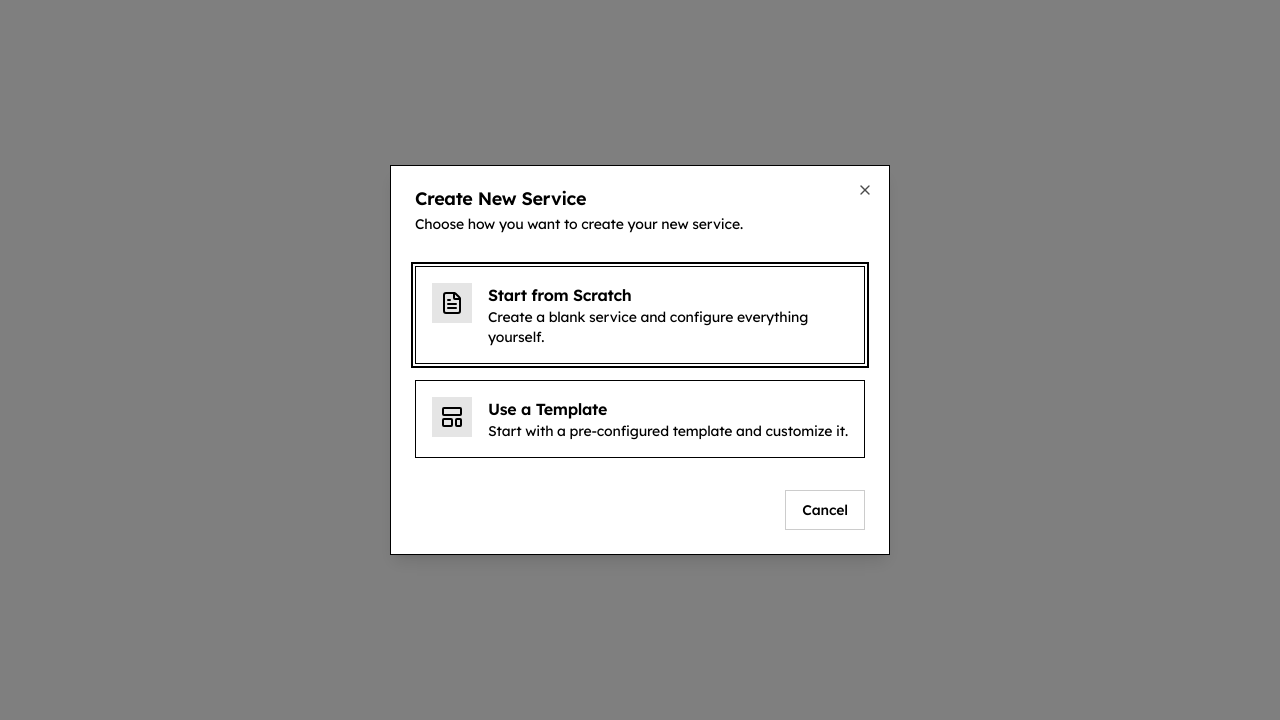
Scenario: CreateServiceDialog › Mode Selection › shows blank service form when "Start from Scratch" is clicked
Click the heading "Start from Scratch" at (560, 295), box [488,285,631,305]
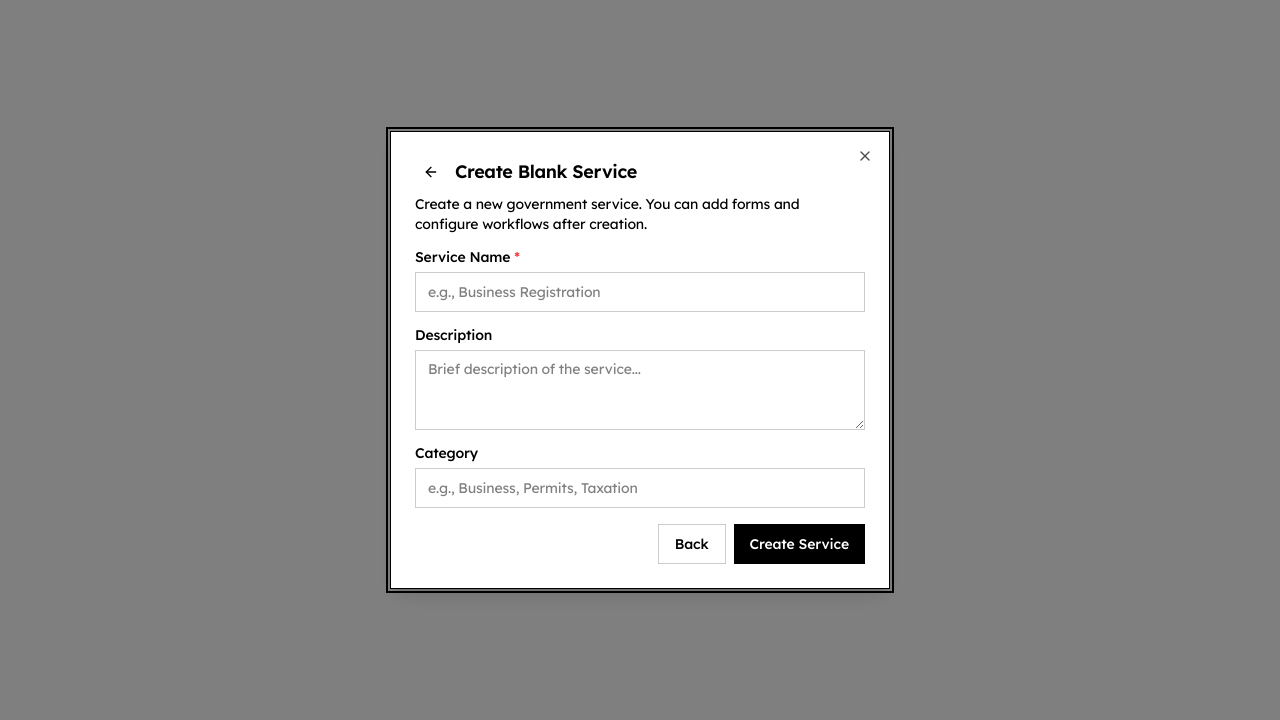
Expected: the heading "Create Blank Service" is shown, [455,163,637,181]
Expected: the field labelled "Service Name *" is shown, [415,272,865,312]
Expected: the text box labelled "Description" is shown, [415,350,865,430]
